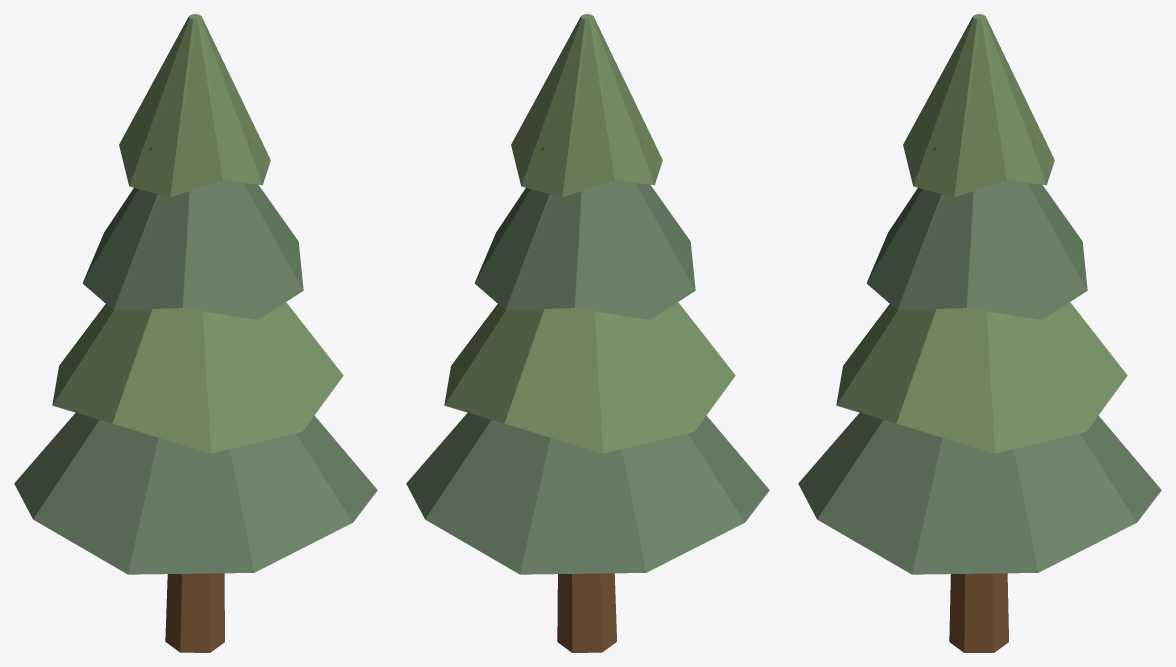
The model's file is komachi-pine.glb.
3 views of the same model, side by side, from view 1: azimuth 30°, elevation 25°; view 2: azimuth 150°, elevation 25°; view 3: azimuth 270°, elevation 25° (orthographic).
Visible parts, largest first — view 1: Komachi_pine; view 2: Komachi_pine; view 3: Komachi_pine.
Part boxes in pixels (<box>): Komachi_pine: <box>14,14,377,652</box>; Komachi_pine: <box>406,14,769,652</box>; Komachi_pine: <box>798,14,1161,652</box>.
Size of the model in its own units: 0.6621 by 1.27 by 0.6695.
